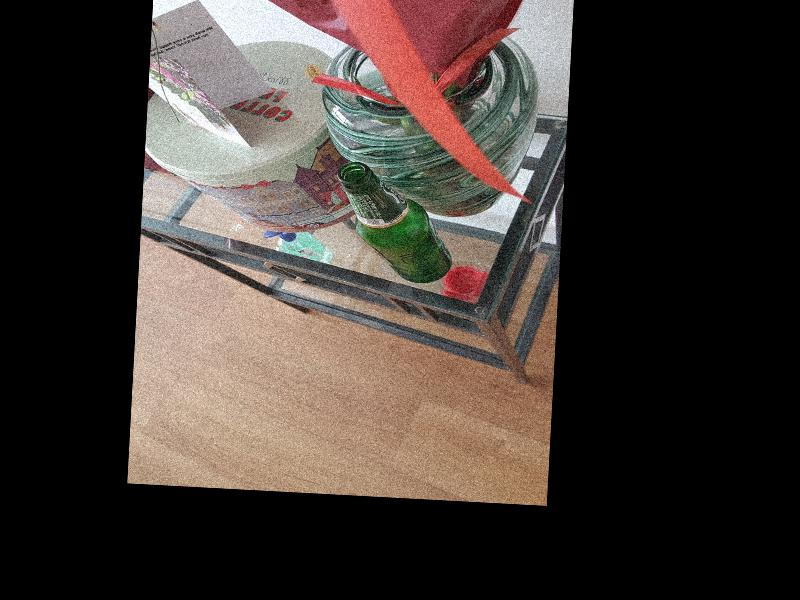Beer: (332, 161, 458, 284)
